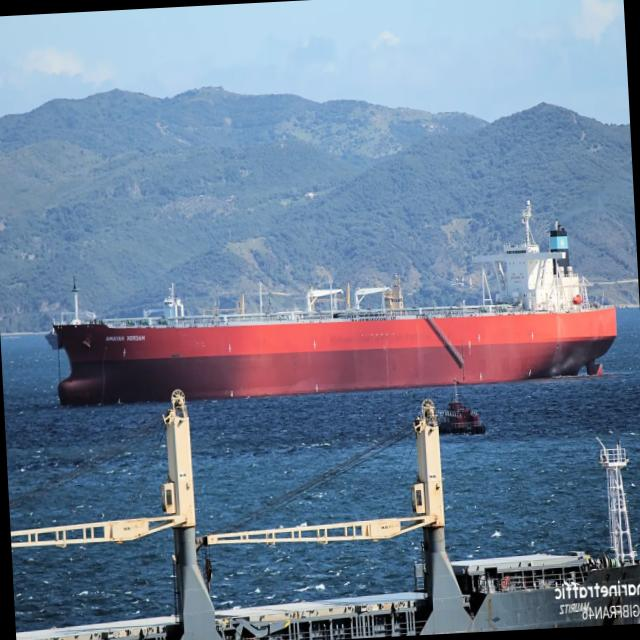Tanker: (46, 201, 617, 404)
